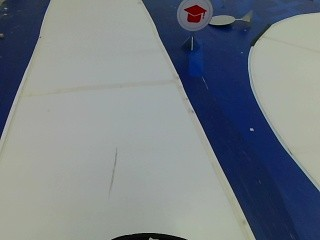school: (176, 0, 210, 32)
